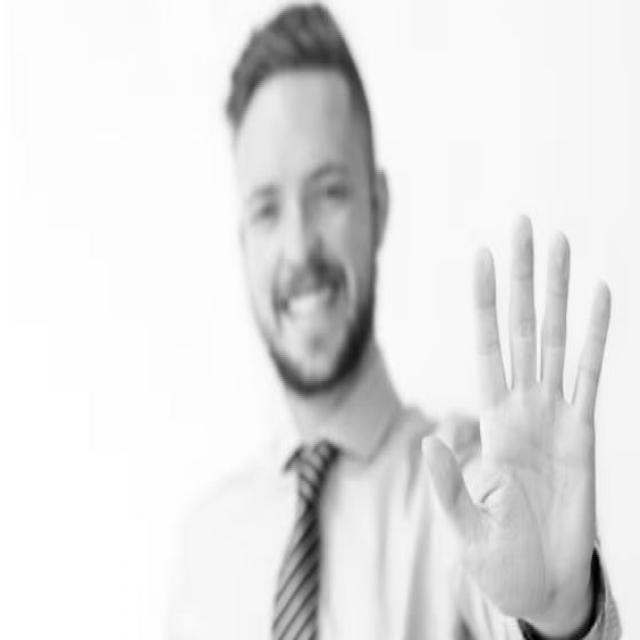stop: (418, 200, 617, 625)
